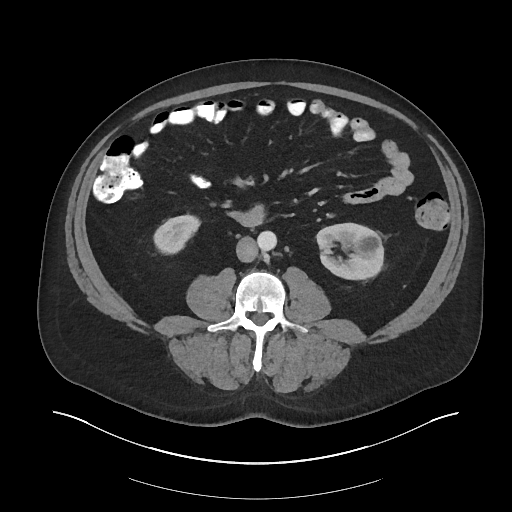Lesion: (356, 231, 384, 254)
